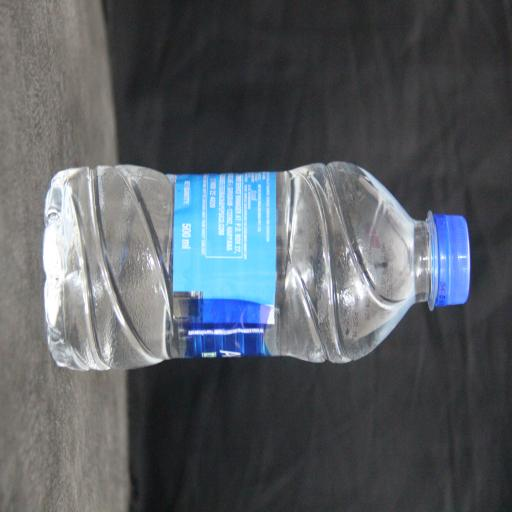Aquafina: (91, 39, 265, 512)
